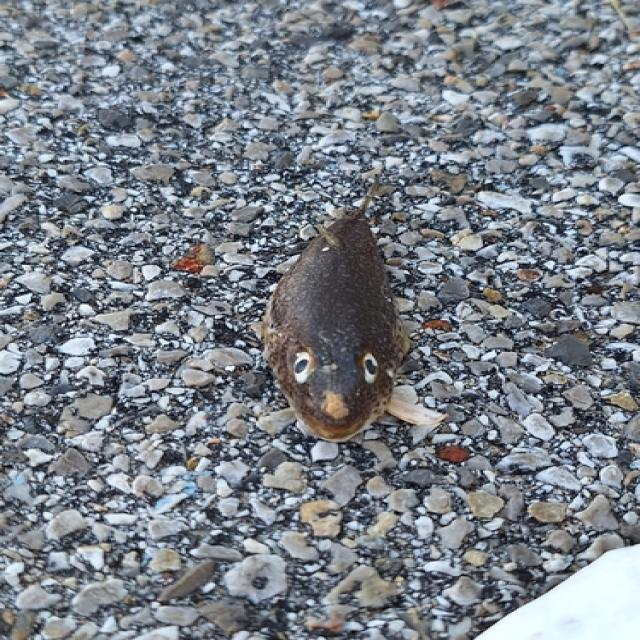Balik: (263, 184, 445, 441)
